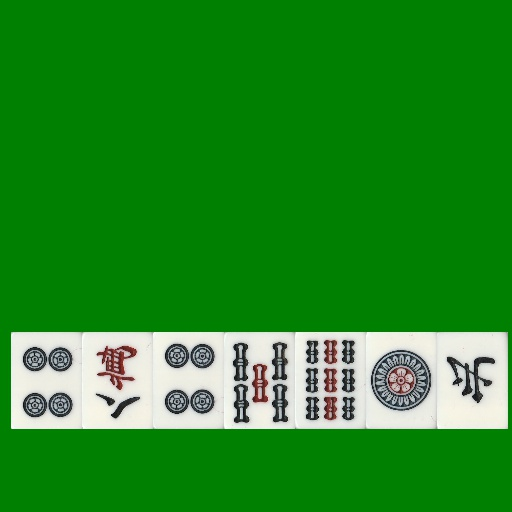1p: (366, 332, 437, 429)
4p: (11, 332, 82, 429), (153, 332, 224, 429)
5s: (224, 332, 295, 429)
8m: (82, 332, 153, 429)
9s: (295, 332, 366, 429)
north: (437, 332, 508, 429)
